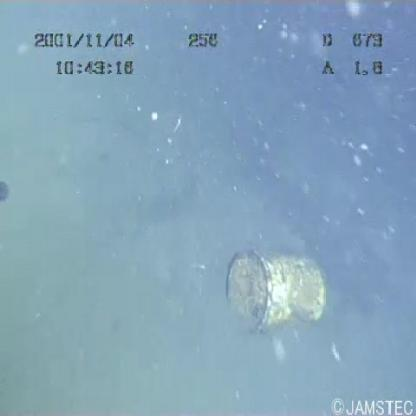Rác: (204, 246, 332, 331)
